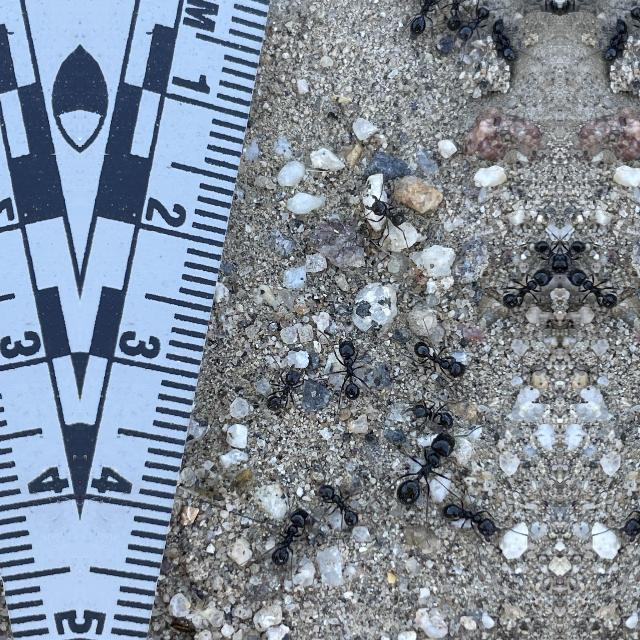Messor: (399, 426, 453, 514), (403, 330, 485, 386), (312, 474, 371, 534), (485, 262, 551, 314), (569, 262, 635, 314), (324, 338, 376, 400), (446, 494, 506, 546), (362, 188, 420, 240), (264, 506, 314, 566), (258, 368, 308, 414), (491, 16, 535, 66), (452, 5, 496, 55), (585, 16, 629, 66), (406, 399, 466, 427), (614, 494, 640, 546), (529, 232, 559, 274), (561, 232, 591, 274), (410, 0, 435, 46), (624, 5, 640, 55), (448, 1, 466, 36)
